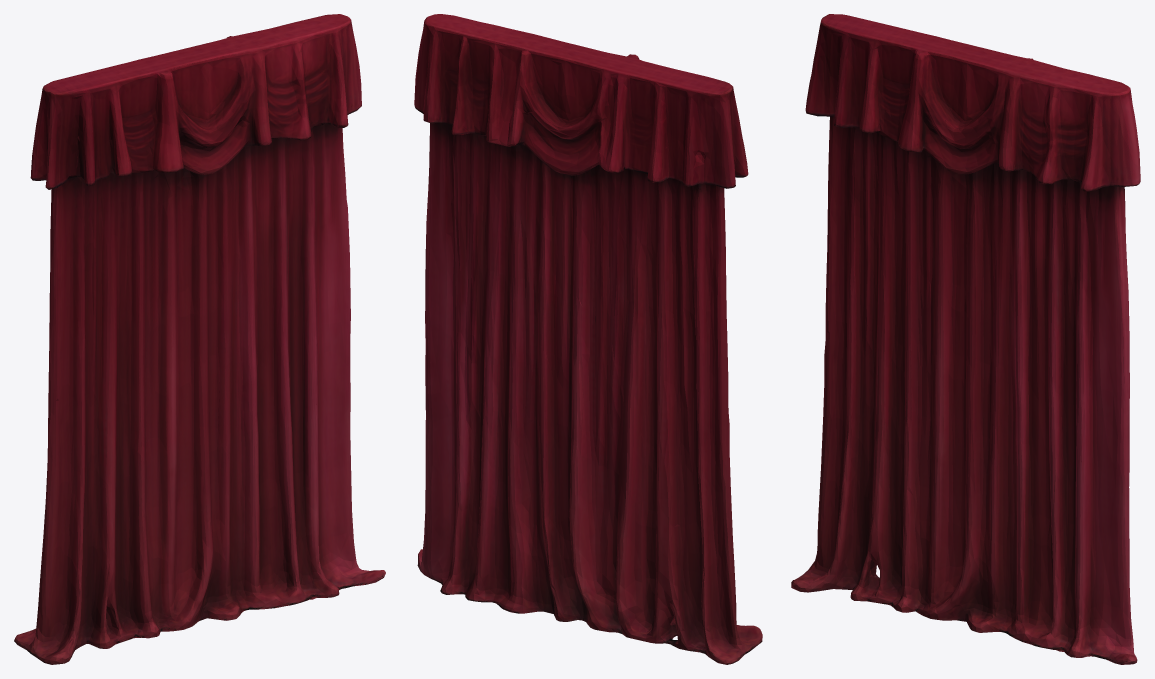
File: curtain.glb
The picture shows the model from 3 angles, left to right: view 1: azimuth 30°, elevation 25°; view 2: azimuth 150°, elevation 25°; view 3: azimuth 330°, elevation 25°; orthographic projection.
Visible parts, largest first — view 1: geometry_0.006; view 2: geometry_0.006; view 3: geometry_0.006.
Part boxes in pixels (x1,y1,x2,y2): geometry_0.006: (14,14,385,664); geometry_0.006: (414,14,762,664); geometry_0.006: (791,14,1140,664).
Size of the model in its own units: 1.52 by 2.37 by 0.353.
Materials: 1 (1 with a texture image).
